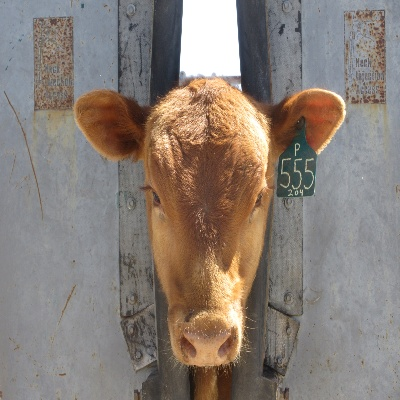fidget_spinner: (172, 311, 239, 373)
